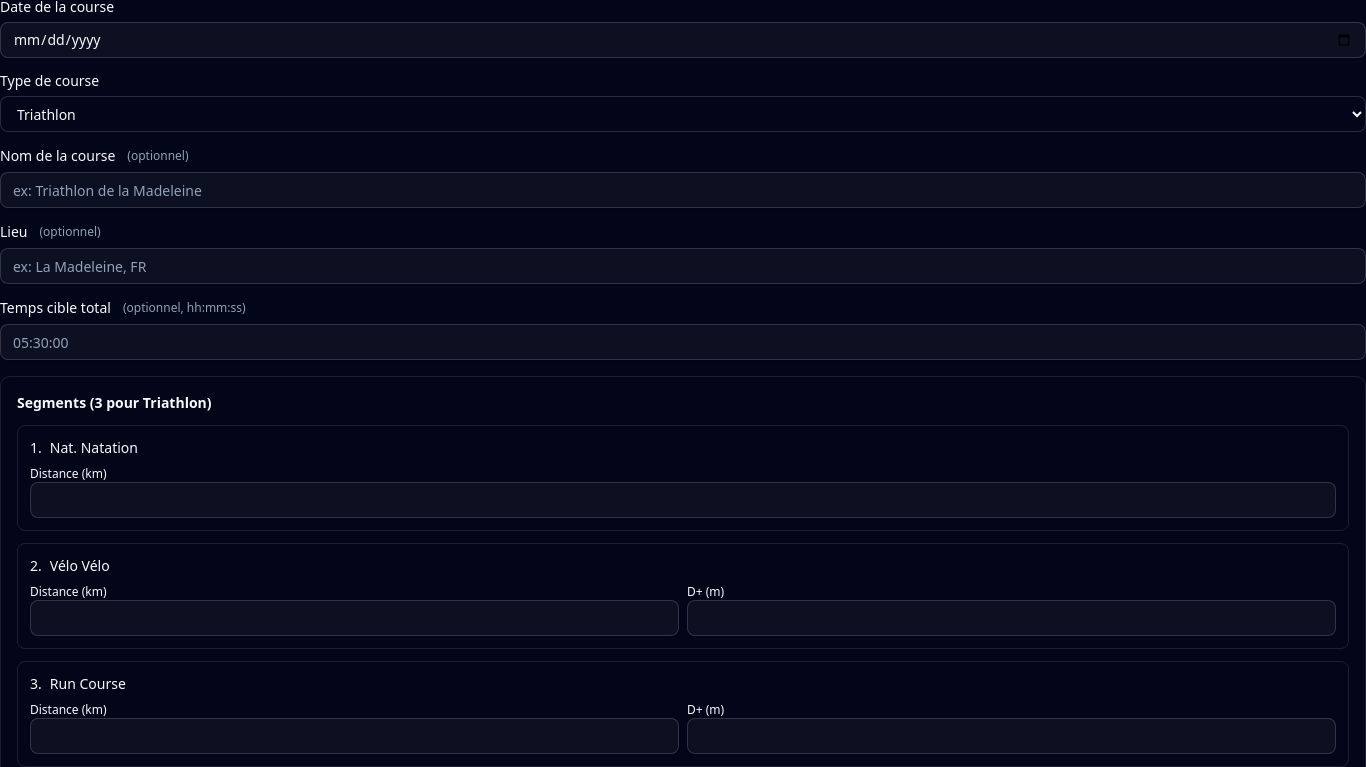
StepRaceForm › shows the add-leg button only when discipline is autre
Check: the button "+ Ajouter" is not shown
Select "Autre / personnalisé" in the dropdown labelled "Type de course" at (683, 114), box [0,96,1365,132]
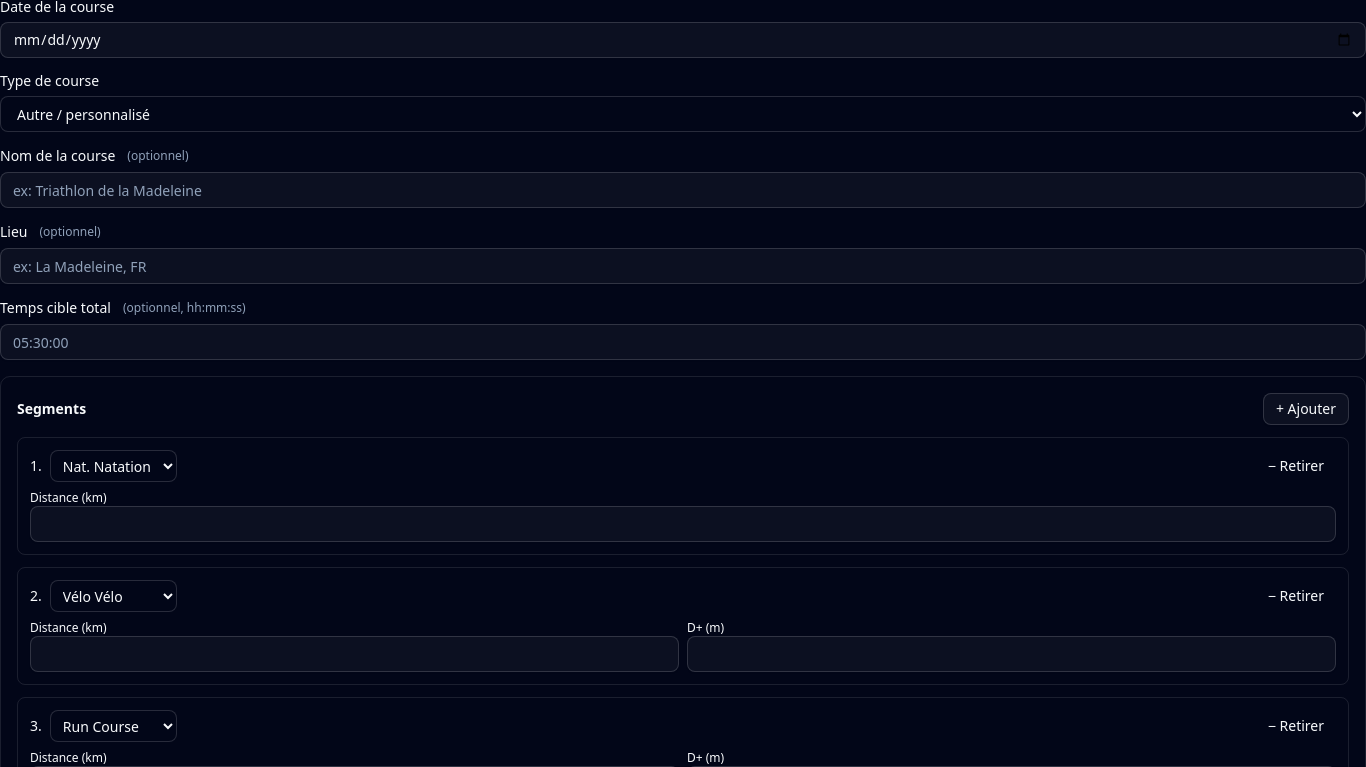
Check: the button "+ Ajouter" is shown, box [1263,393,1349,425]
